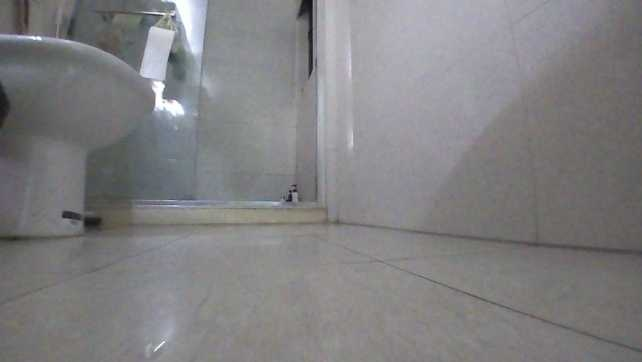door_sill: (190, 196, 328, 226)
toilet: (0, 30, 158, 242)
